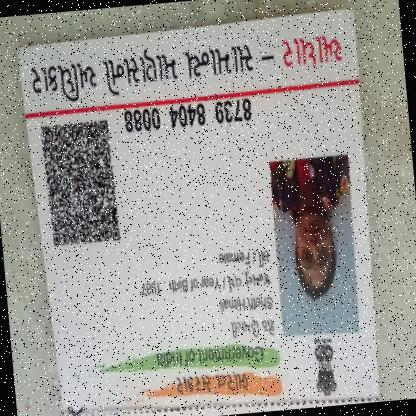aadhaar_card: (18, 16, 382, 415)
